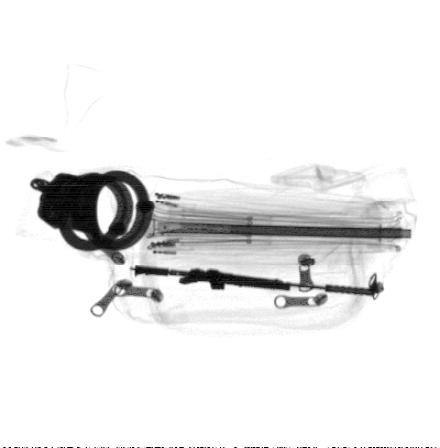Gun: (134, 263, 380, 298)
HandCuffs: (24, 170, 155, 253)
